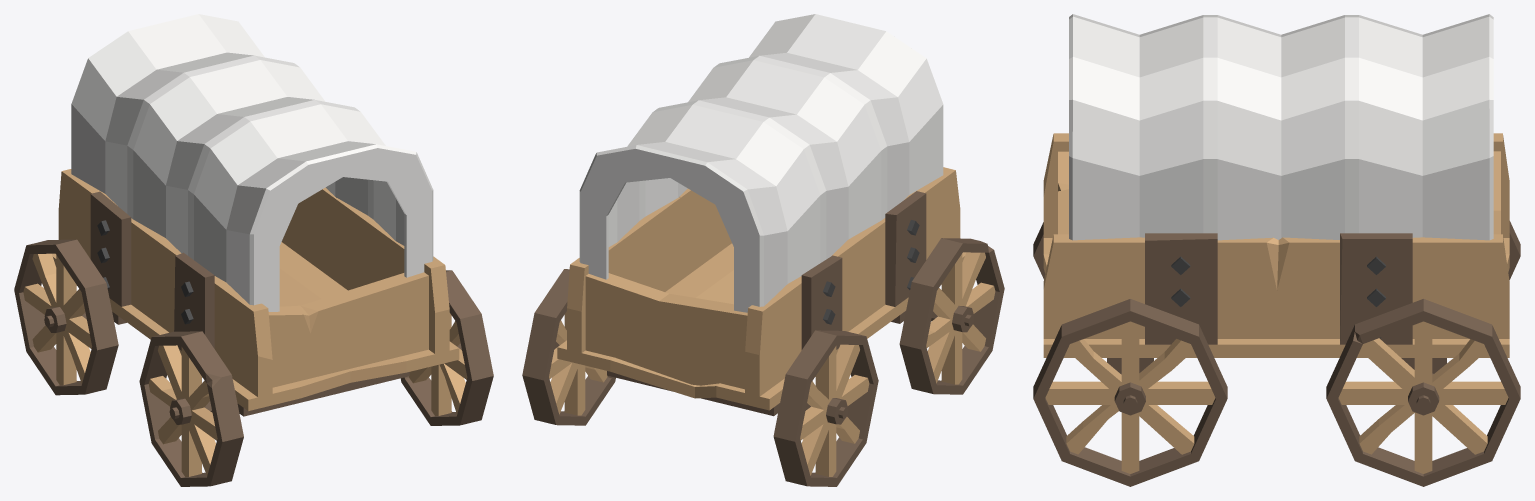
Rendered from Cart_1.fbx.
The picture shows the model from 3 angles, left to right: view 1: azimuth 30°, elevation 25°; view 2: azimuth 150°, elevation 25°; view 3: azimuth 270°, elevation 25°; orthographic projection. The views are drawn at different scales.
Parts seen in each view (by area): view 1: Cart_1; view 2: Cart_1; view 3: Cart_1.
Part boxes in pixels (left/top/right/bottom): Cart_1: left=14, top=14, right=493, bottom=486; Cart_1: left=522, top=14, right=1004, bottom=486; Cart_1: left=1033, top=14, right=1520, bottom=486.
Size of the model in its own units: 275 by 344 by 290.
